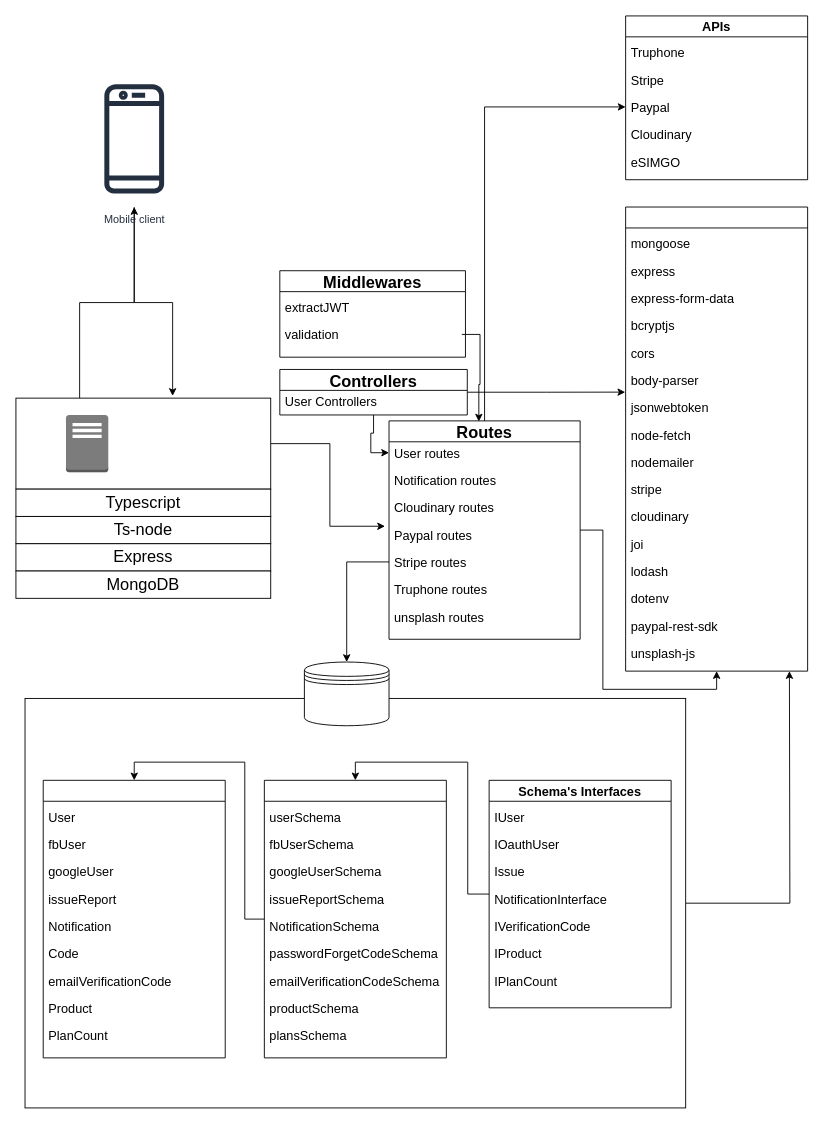
This 824x1124 diagram has some shape labels left out. The box of each missing label's shape, as (x1, y1, x2, y2) in pixels:
Data Base: (303, 661, 389, 726)
JS Libraries: (625, 206, 808, 671)
Models: (42, 779, 225, 1058)
Schemas: (263, 779, 446, 1058)
Server: (15, 397, 271, 489)
